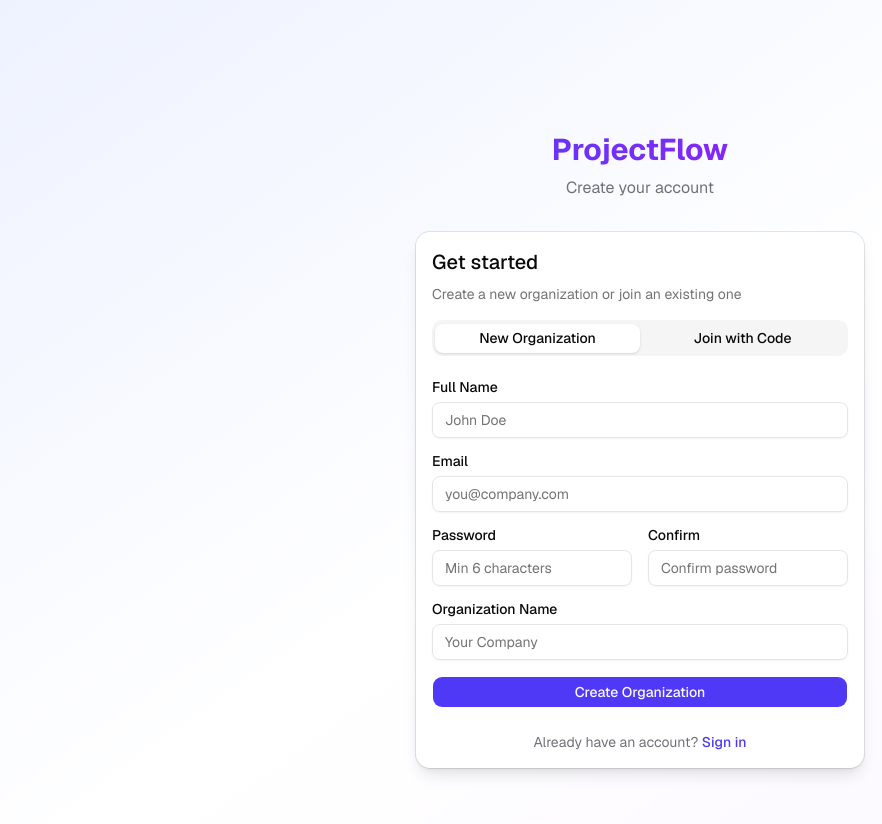
Test: RegisterPage › shows error when registration fails
Type "Test" into the field labelled "Full Name".
click(640, 420); type("Test")  # box [432, 402, 848, 438]
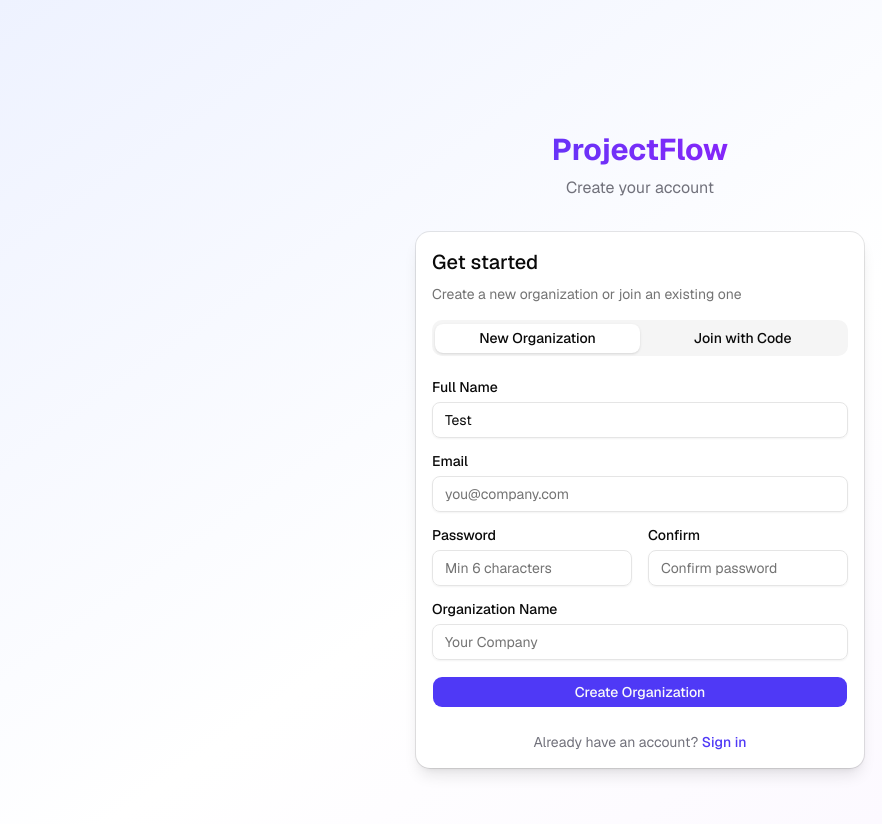
Type "existing@demo.com" into the field labelled "Email".
click(640, 494); type("existing@demo.com")  # box [432, 476, 848, 512]
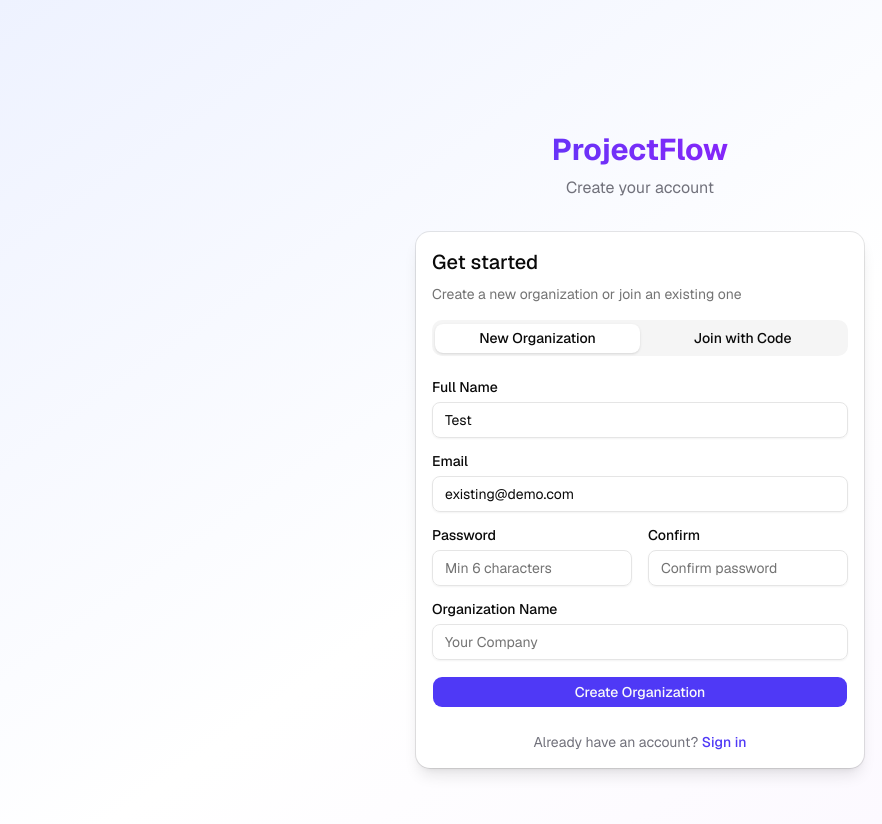
Type "password123" into the password field labelled "Password".
click(532, 568); type("password123")  # box [432, 550, 632, 586]
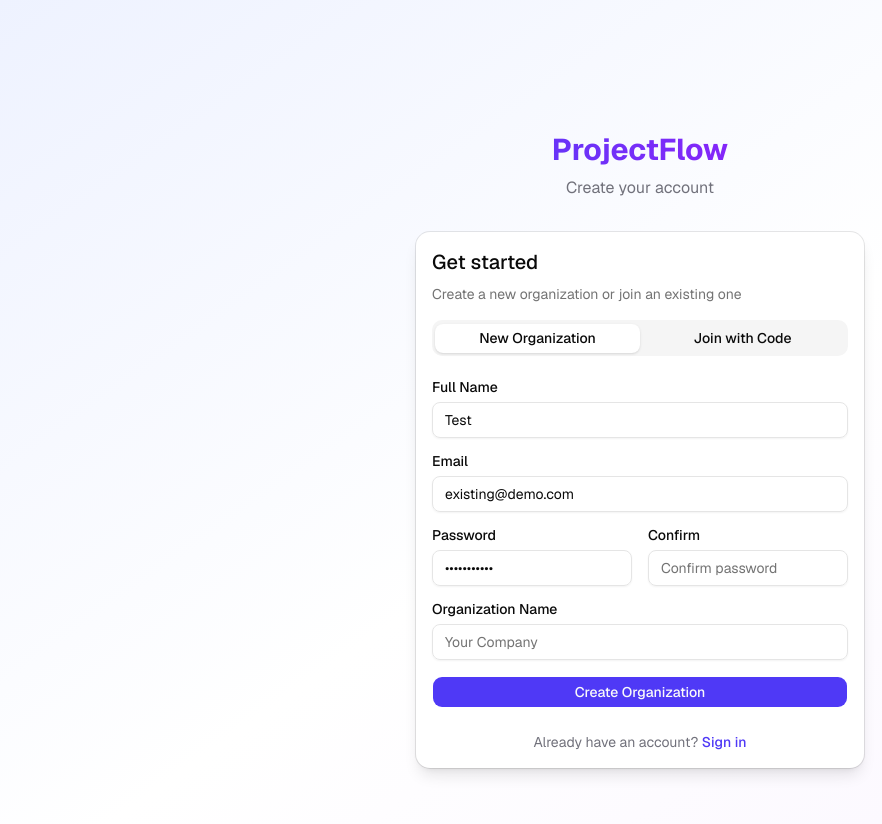
Type "password123" into the password field labelled "Confirm".
click(748, 568); type("password123")  # box [648, 550, 848, 586]
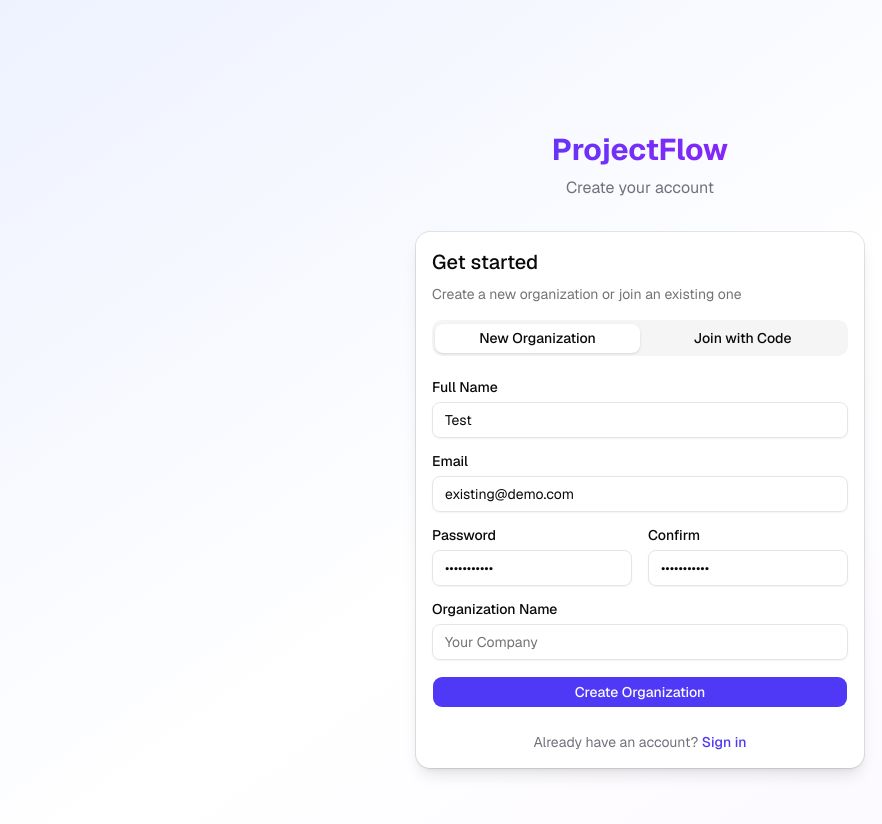
Type "My Co" into the field labelled "Organization Name".
click(640, 642); type("My Co")  # box [432, 624, 848, 660]
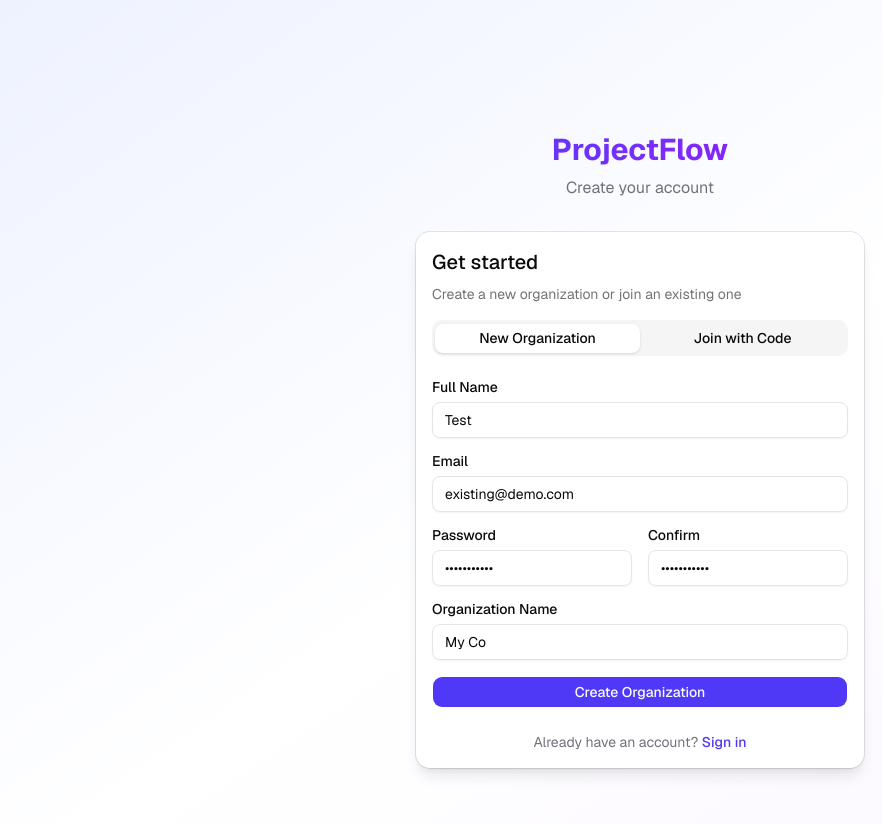
Submit the form, box [432, 380, 848, 708]
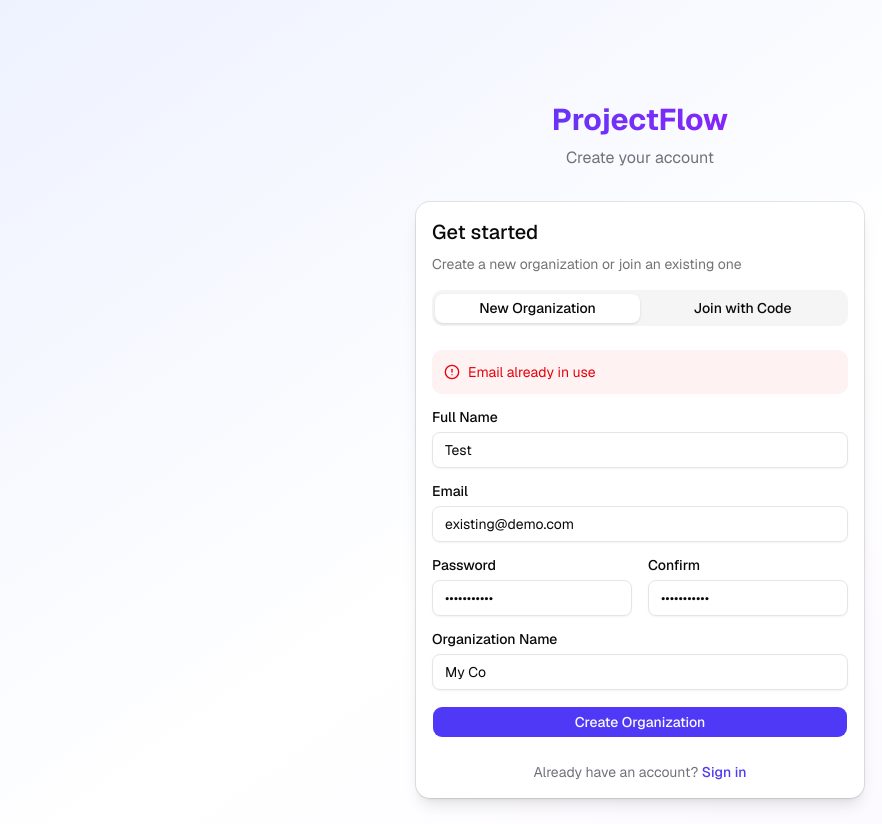
Check: the text "Email already in use" is shown, box [432, 350, 848, 394]
